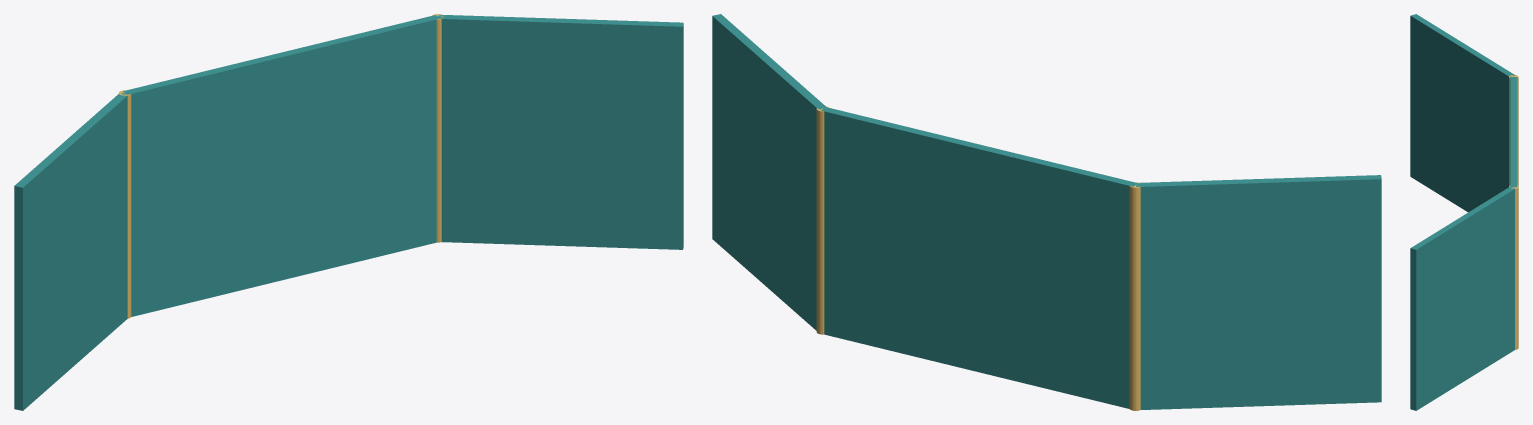
File: tabletop-game-components-player-screen-31404ece__20888.glb
The picture shows the model from 3 angles, left to right: view 1: azimuth 30°, elevation 25°; view 2: azimuth 150°, elevation 25°; view 3: azimuth 270°, elevation 25°; orthographic projection. The views are drawn at different scales.
Parts seen in each view (by area): view 1: player-screen, screen-right, screen-left; view 2: player-screen, screen-left, screen-right; view 3: screen-right, screen-left, player-screen.
Boxes of the visible parts, left/top/right/bottom form: player-screen: left=118, top=14, right=443, bottom=318; screen-right: left=438, top=14, right=683, bottom=249; screen-left: left=14, top=92, right=127, bottom=410; player-screen: left=816, top=106, right=1140, bottom=410; screen-left: left=1136, top=175, right=1381, bottom=409; screen-right: left=712, top=14, right=825, bottom=330; screen-right: left=1410, top=187, right=1516, bottom=410; screen-left: left=1410, top=14, right=1515, bottom=212; player-screen: left=1509, top=75, right=1518, bottom=349.
Bounding box in the file's own units: 0.2355 × 0.075 × 0.0456.
